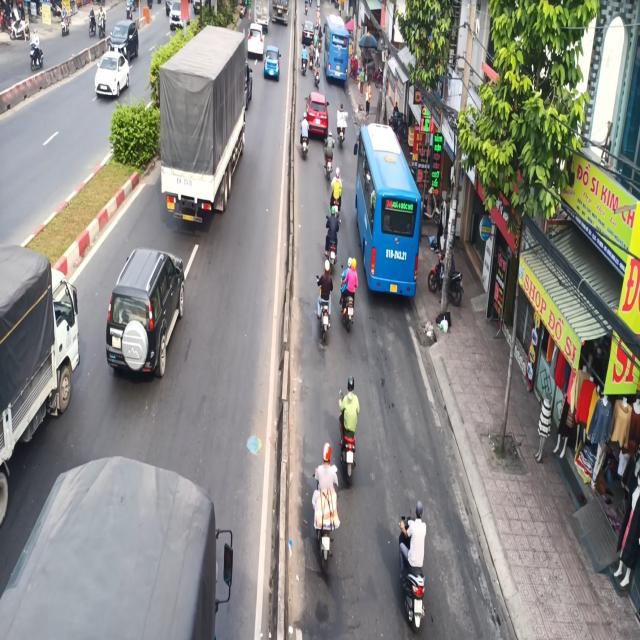bus: (352, 123, 422, 304), (324, 13, 352, 88)
car: (106, 244, 192, 392), (304, 85, 331, 140), (263, 42, 282, 90)
motor: (307, 433, 347, 551), (400, 498, 433, 626), (336, 386, 359, 493), (314, 254, 335, 349), (339, 251, 359, 336)
truck: (148, 21, 255, 232)
